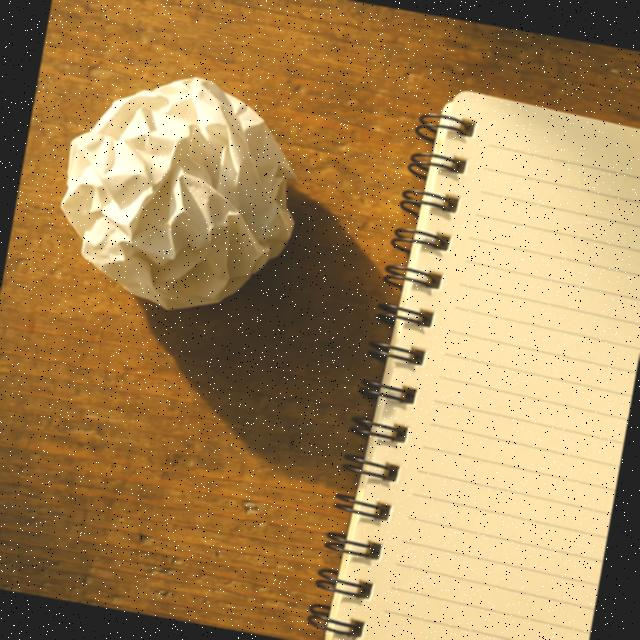paper: (42, 59, 318, 327)
